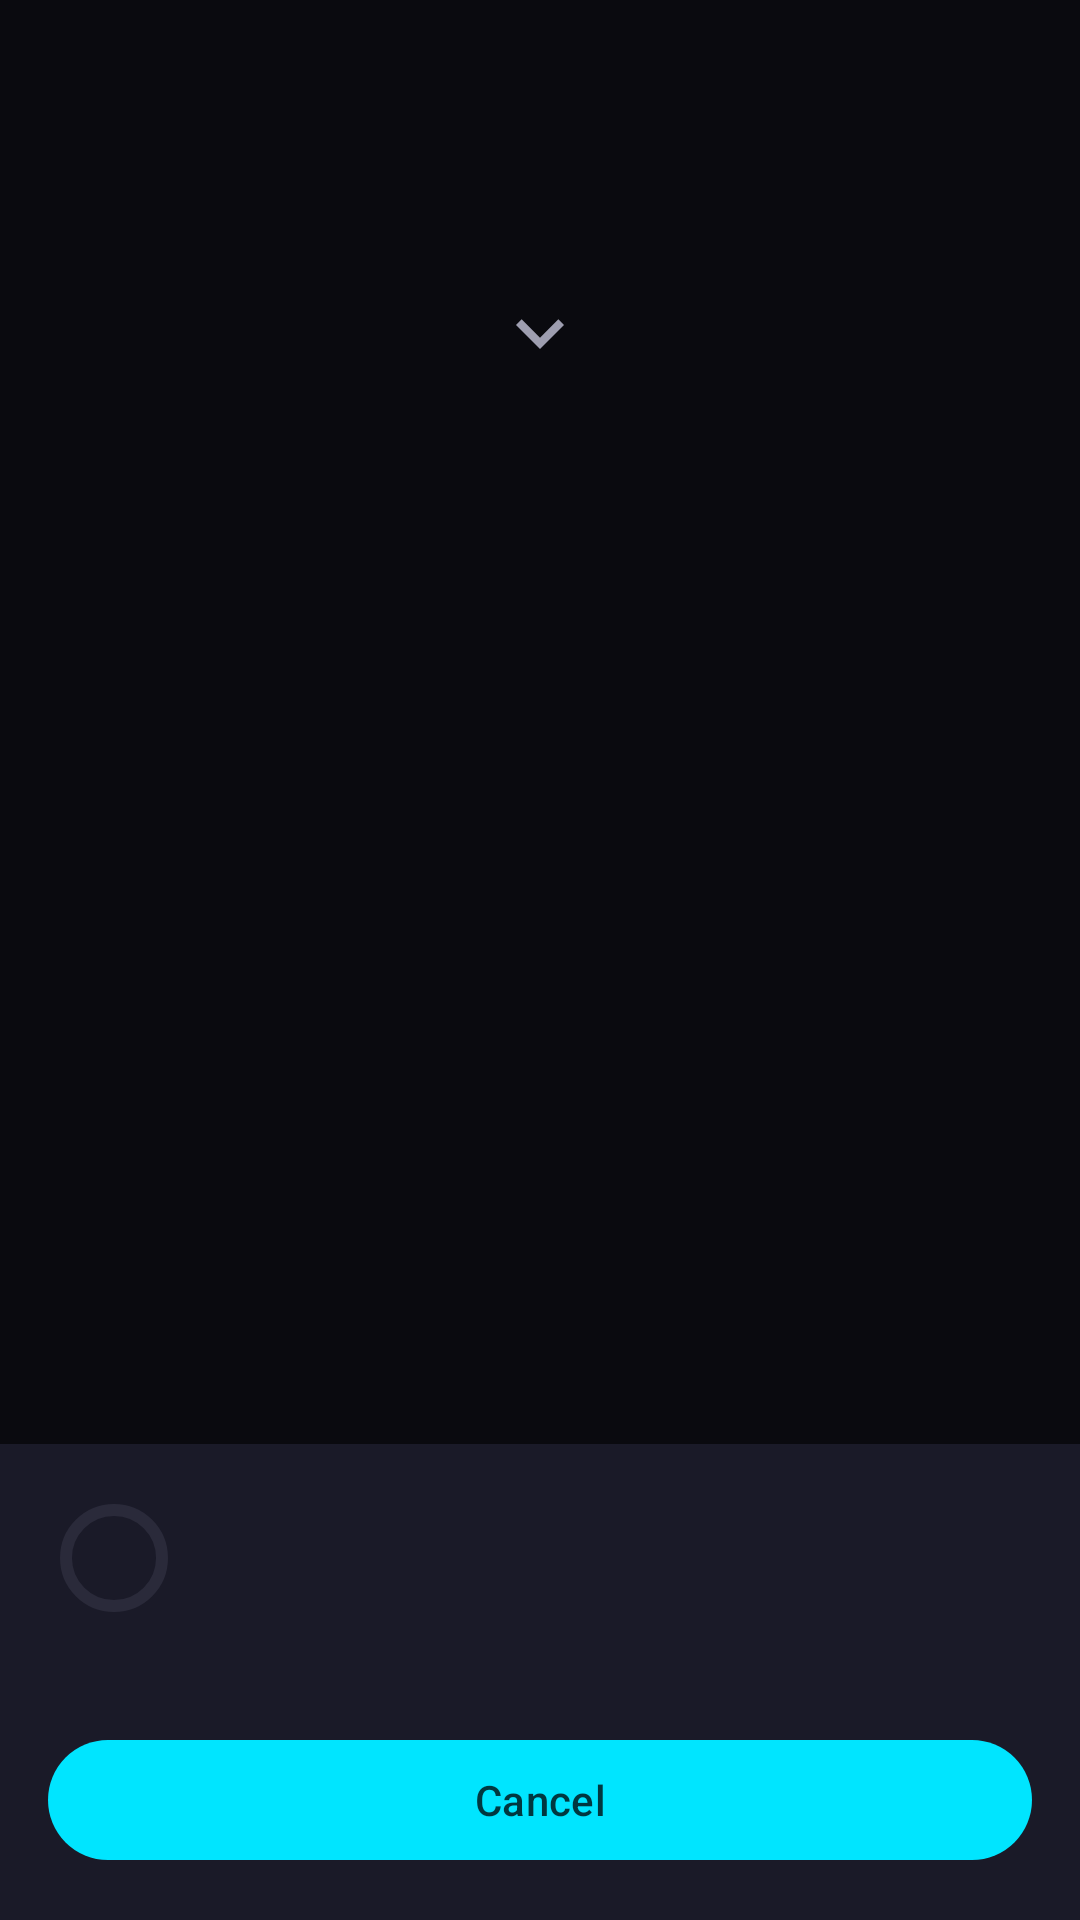

Locate icon controls on the screen. Image size 1080 × 1920, boxes as (x1, y1, x2, y2).
arrow down: (516, 319, 564, 349)
